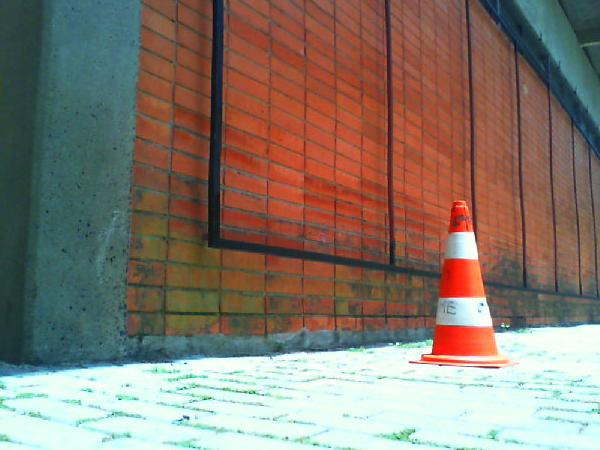0 cone: (409, 201, 521, 368)
